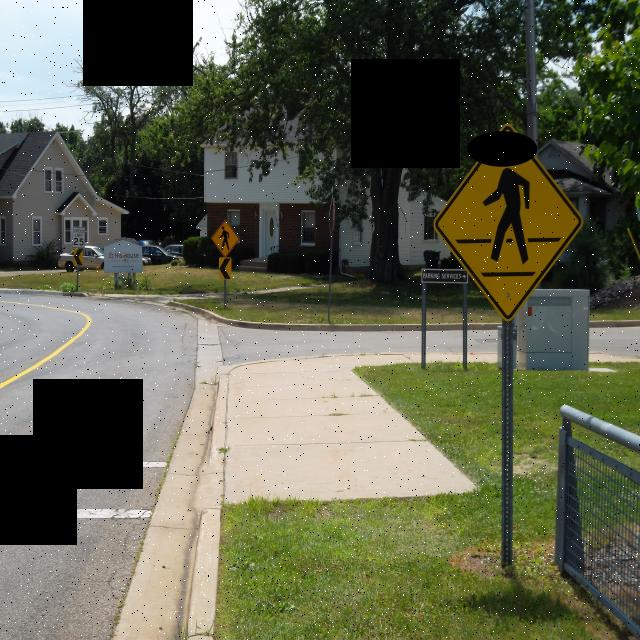regulatory: (69, 223, 88, 250)
warning: (436, 122, 585, 324), (209, 215, 241, 256), (217, 256, 233, 279), (72, 246, 84, 269)
